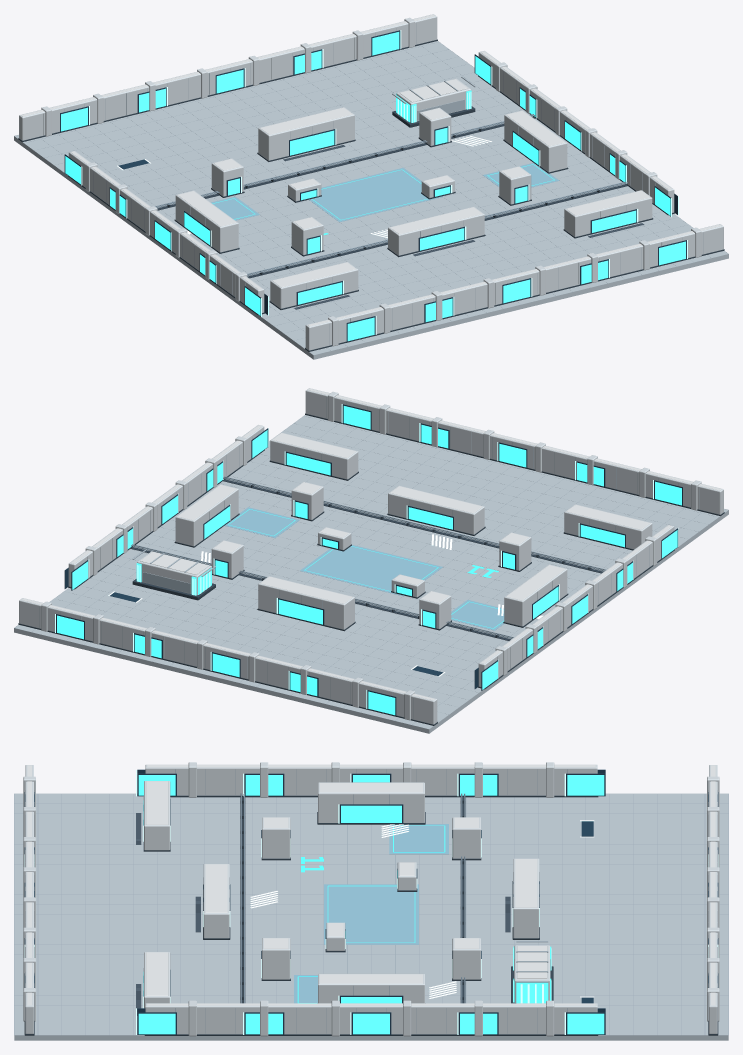
Rendered from arena_cryo.glb.
3 renders of one model, top to bottom at view 1: azimuth 30°, elevation 25°; view 2: azimuth 150°, elevation 25°; view 3: azimuth 270°, elevation 25°, orthographic. The views are drawn at different scales.
Visible parts, largest first — view 1: ArenaFloor, ArenaProps; view 2: ArenaFloor, ArenaProps; view 3: ArenaFloor, ArenaProps.
Part boxes in pixels (bbox=[...]): ArenaFloor: bbox=[14, 41, 728, 359]; ArenaProps: bbox=[18, 14, 724, 351]; ArenaFloor: bbox=[14, 415, 728, 733]; ArenaProps: bbox=[18, 388, 724, 725]; ArenaFloor: bbox=[14, 793, 728, 1040]; ArenaProps: bbox=[23, 762, 719, 1036].
Bounding box in the file's own units: 48.45 × 3.41 × 60.03.
